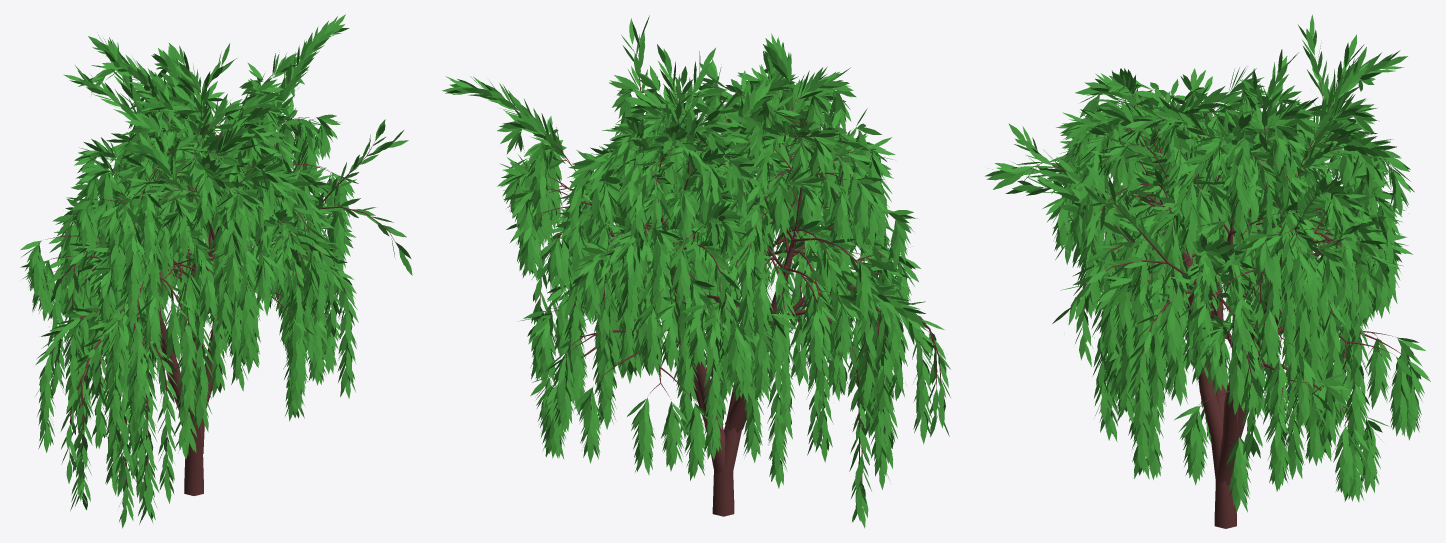
File: TheDerevo2.fbx
3 views of the same model, side by side, from view 1: azimuth 30°, elevation 25°; view 2: azimuth 150°, elevation 25°; view 3: azimuth 270°, elevation 25° (orthographic). The views are drawn at different scales.
Visible parts, largest first — view 1: leaves, tree; view 2: leaves, tree; view 3: leaves, tree.
Part boxes in pixels (<box>): leaves: <box>20,14,412,528</box>; tree: <box>45,67,397,495</box>; leaves: <box>442,15,950,528</box>; tree: <box>517,45,941,516</box>; leaves: <box>985,14,1430,512</box>; tree: <box>1026,56,1409,528</box>.
Bounding box in the file's own units: 17.15 × 18.13 × 15.35.
